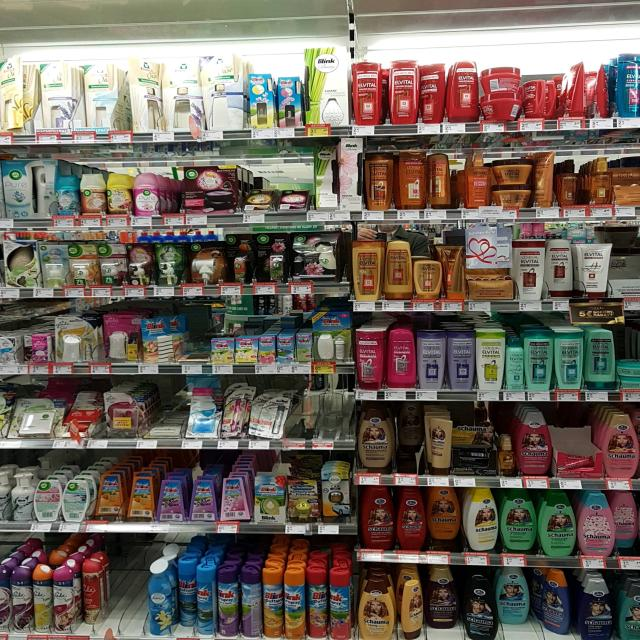void: (108, 536, 143, 640), (143, 375, 183, 453), (294, 387, 323, 454), (326, 384, 352, 456), (180, 311, 206, 374), (619, 237, 640, 300), (621, 156, 639, 223)
